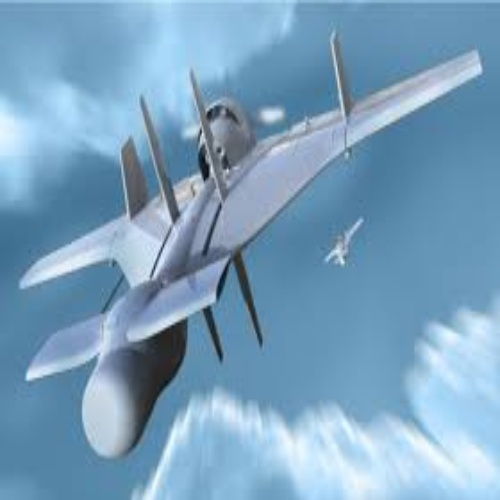uav164: (16, 28, 483, 458)
